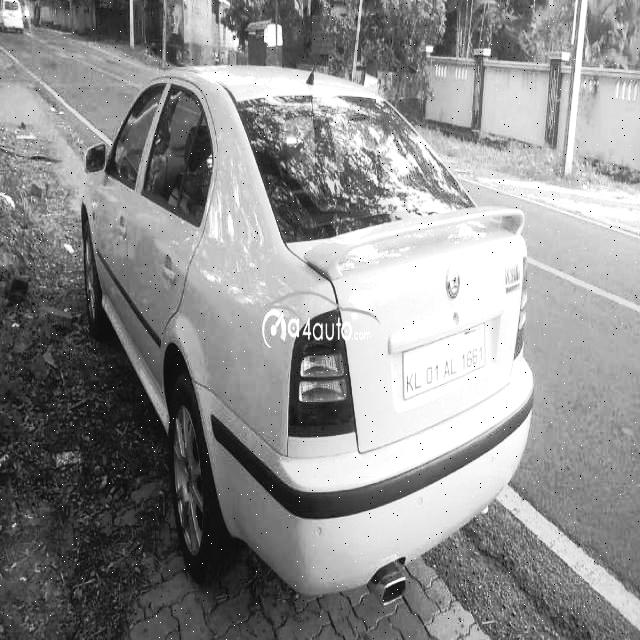Car: (101, 62, 529, 590)
